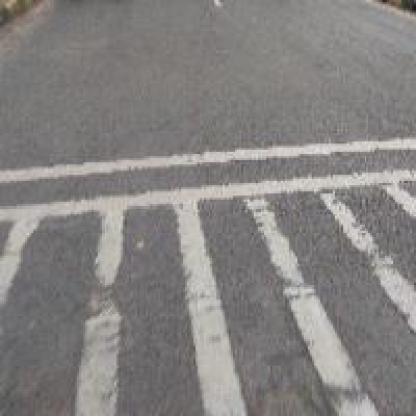Speed Bump: (0, 133, 414, 412)
